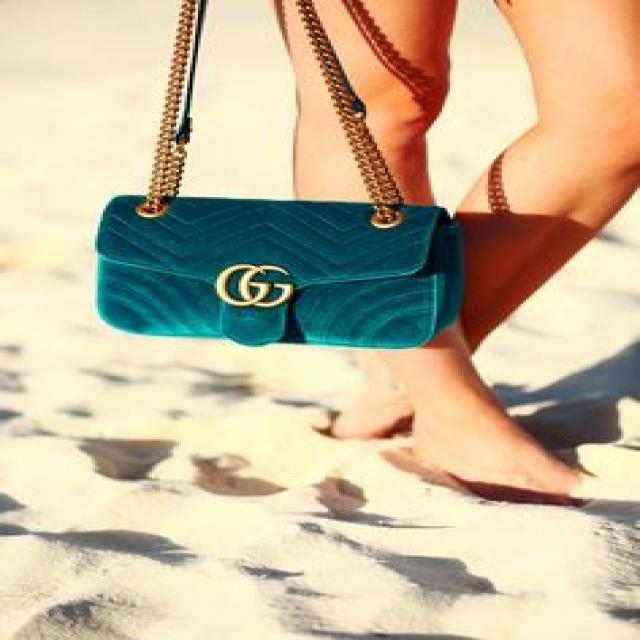handbag: (92, 0, 466, 349)
